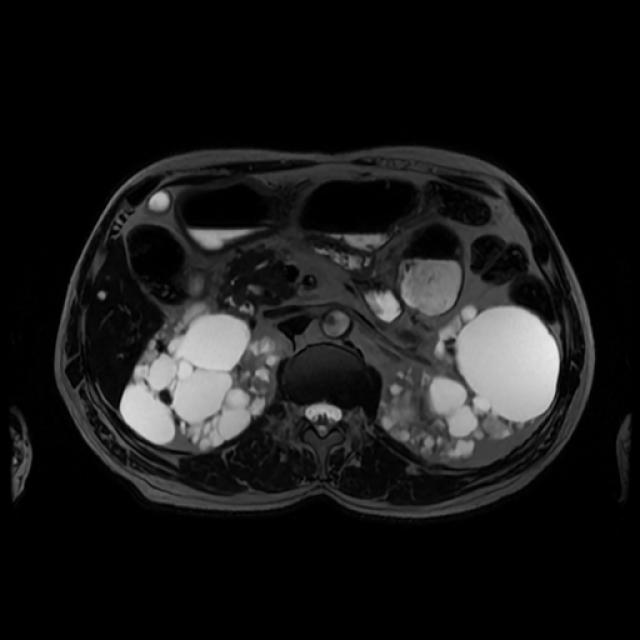sag: (120, 299, 280, 452)
sol: (378, 303, 560, 466)
